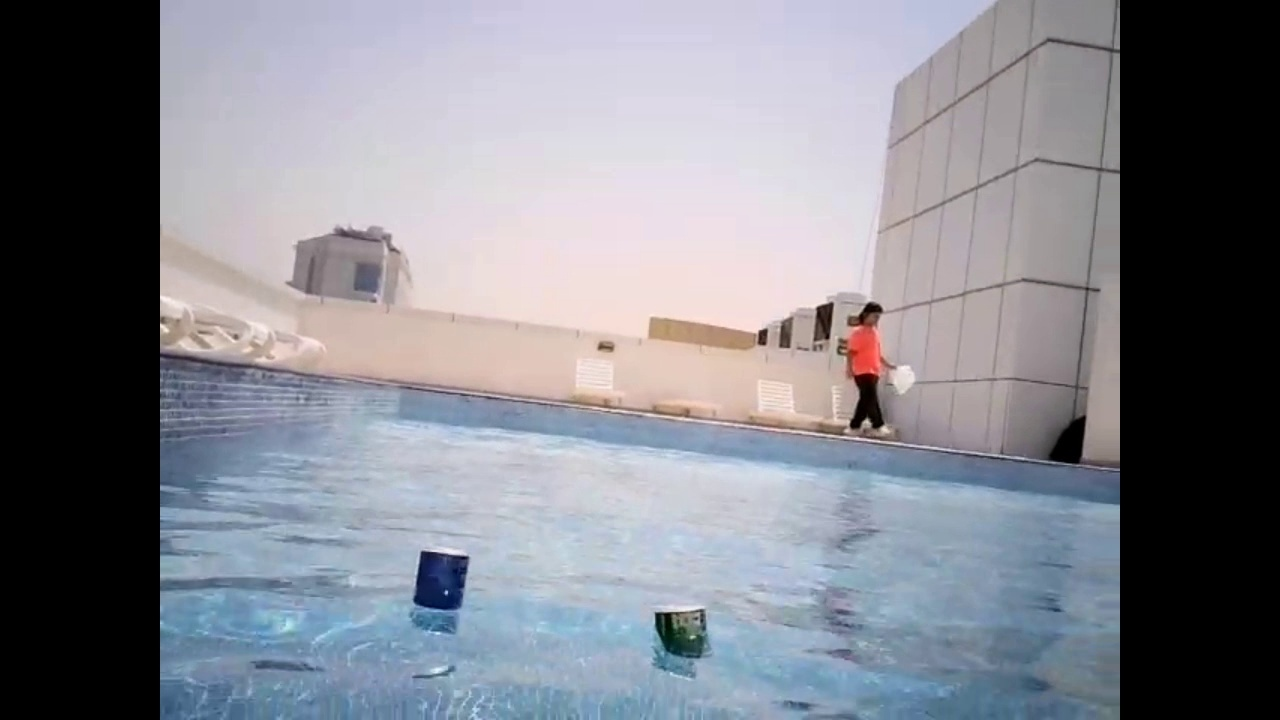debris: (650, 596, 715, 679), (409, 539, 474, 617)
